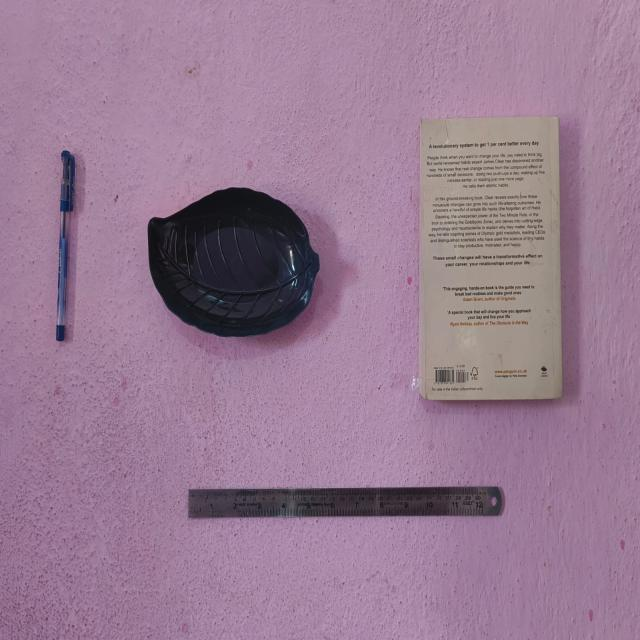Book: (408, 106, 576, 407)
blessing_card: (51, 147, 80, 347)
pen: (144, 182, 324, 342)
plate: (182, 480, 509, 526)
